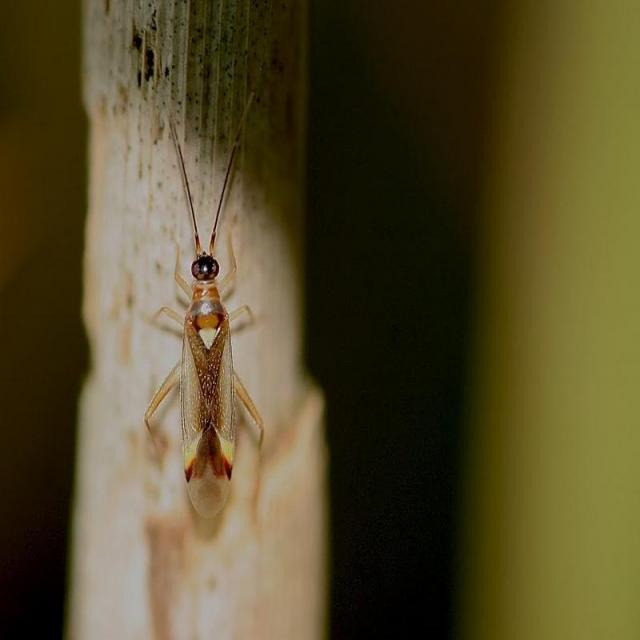Miridae-Adult-: (158, 88, 268, 526)
